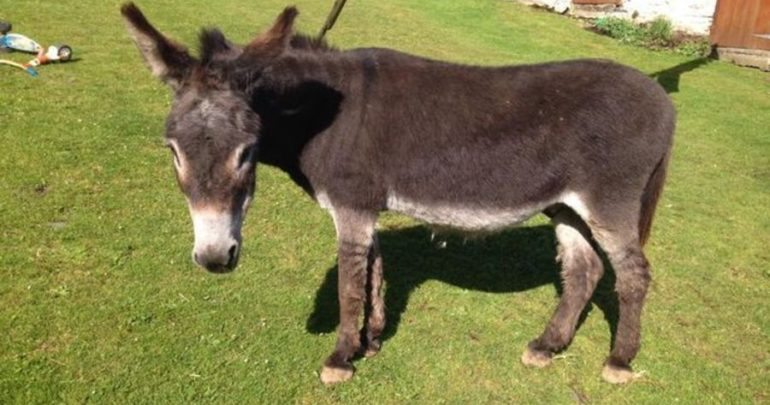donkey: (117, 1, 683, 379)
